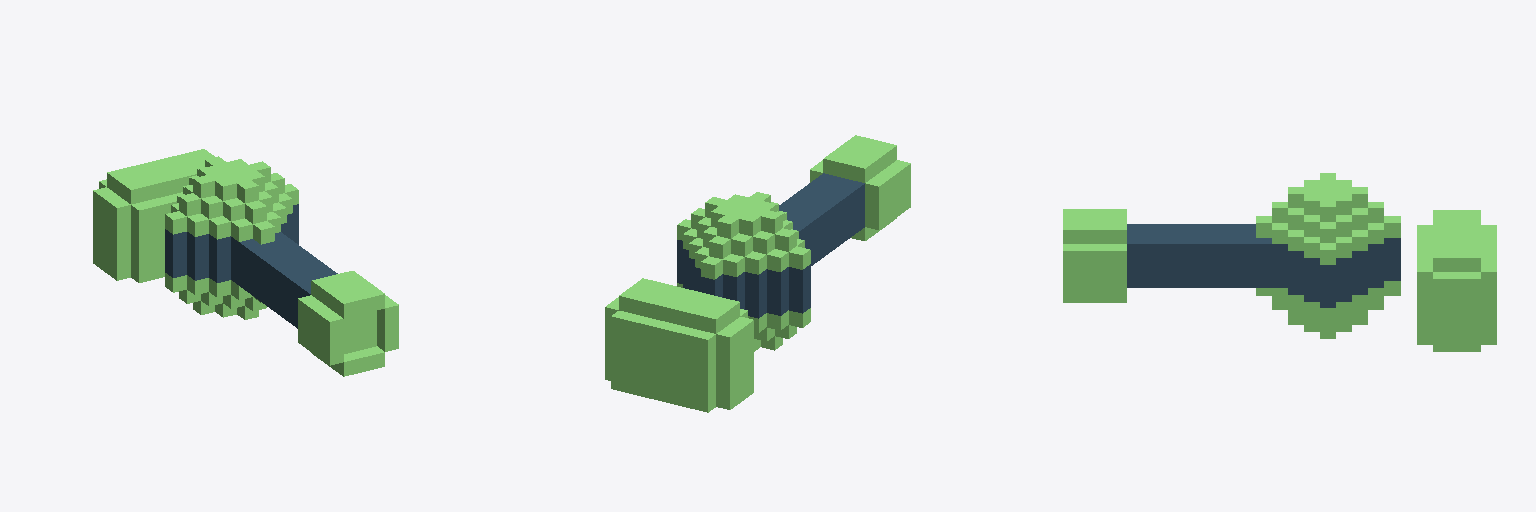
The picture shows the model from 3 angles: view 1: azimuth 30°, elevation 25°; view 2: azimuth 150°, elevation 25°; view 3: azimuth 270°, elevation 25°; orthographic projection.
Parts seen in each view (by area): view 1: object 1; view 2: object 1; view 3: object 1.
Boxes of the visible parts, x1,y1,x2,y2 form: object 1: [93, 149, 398, 376]; object 1: [605, 135, 910, 412]; object 1: [1063, 173, 1496, 351].
Bounding box in the file's own units: 0.9 × 0.9 × 2.7.
1 materials, 1 textured.